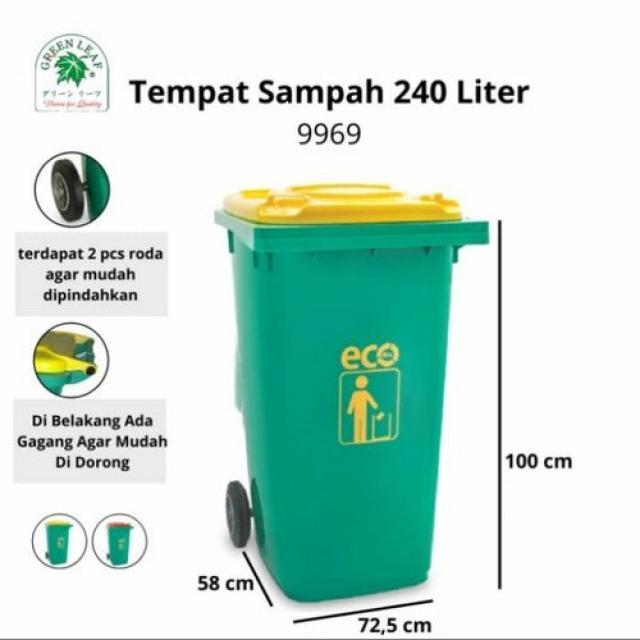Dumpster: (212, 181, 490, 605)
